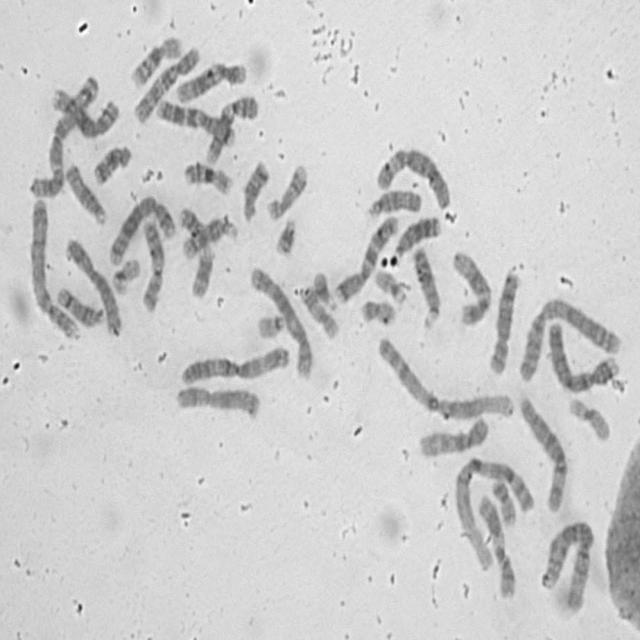A1: (374, 330, 516, 423), (450, 450, 536, 570)
A2: (514, 292, 622, 385), (538, 515, 596, 617)
A3: (26, 68, 100, 200), (178, 339, 292, 387)
B4: (26, 193, 81, 343), (544, 315, 622, 396)
B5: (248, 260, 316, 380), (105, 190, 179, 267)
C10: (128, 39, 201, 125), (416, 411, 491, 459)
C11: (475, 490, 517, 601), (176, 202, 214, 301)
C12: (448, 244, 494, 327), (174, 56, 248, 104)
C6: (516, 392, 568, 515), (372, 141, 453, 210)
C7: (331, 209, 401, 306), (153, 93, 238, 147)
C8: (47, 80, 121, 141), (486, 262, 523, 376)
C9: (202, 89, 260, 167), (138, 214, 166, 314)
D13: (409, 241, 443, 330), (391, 210, 443, 260)
D14: (180, 213, 240, 260), (54, 281, 106, 329)
D15: (62, 159, 109, 227), (364, 183, 424, 218)
E16: (128, 29, 185, 89), (180, 156, 234, 197)
E17: (264, 158, 310, 222), (297, 281, 342, 341)
E18: (239, 154, 271, 223), (90, 139, 134, 187)
F19: (565, 391, 613, 443), (109, 253, 142, 297)
F20: (488, 474, 518, 528), (358, 293, 398, 327)
G21: (310, 265, 338, 312), (272, 212, 298, 257)
G22: (372, 263, 409, 307), (254, 308, 287, 340)
X: (62, 234, 125, 339), (173, 380, 262, 422)
